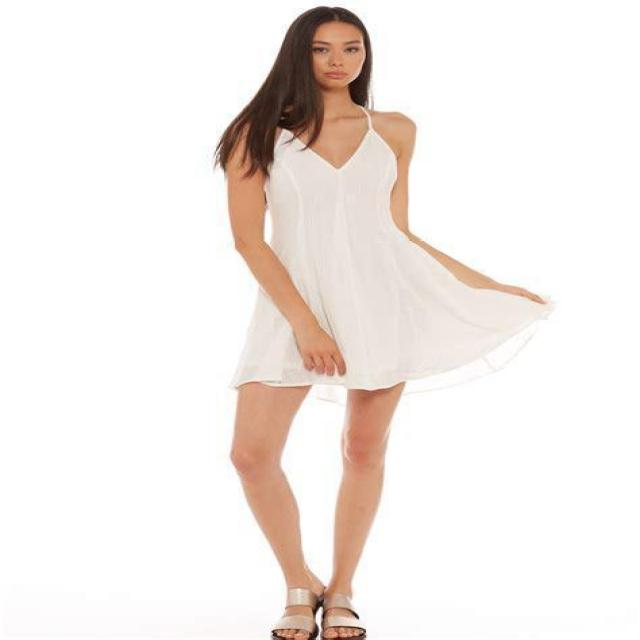dress: (230, 106, 552, 393)
